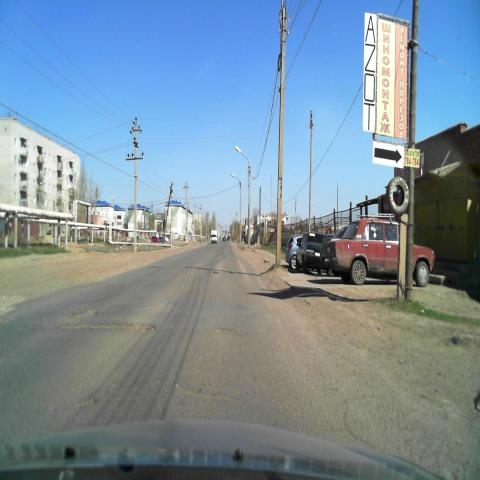8_3_1: (372, 140, 406, 170)
